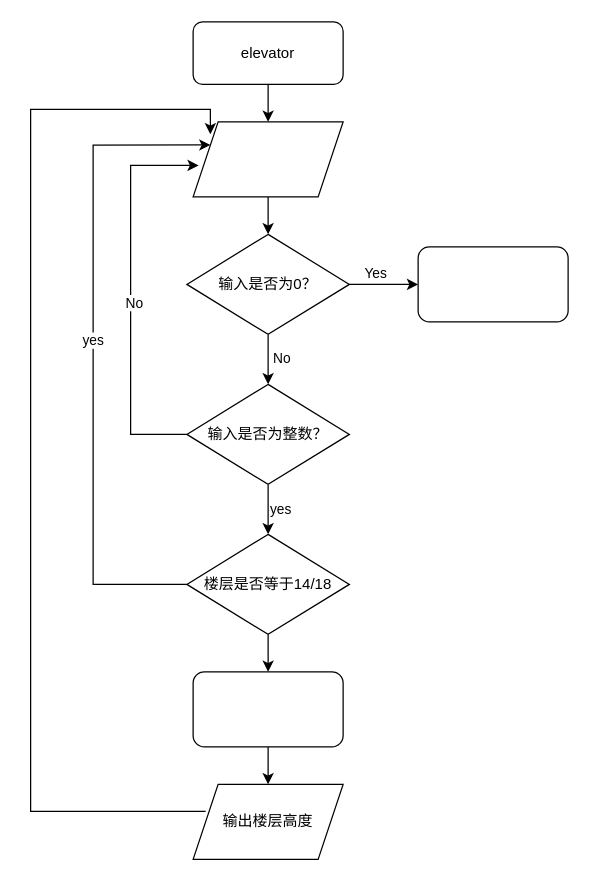
This 590x881 diagram has some shape labels left out. The shapes that lost their labels are listed below. From the top down, each one's centre as x and y in pixels, then its label:
At (267,159): "输入想去的楼层".
At (492,284): "程序结束".
At (267,709): "计算楼层高度".
